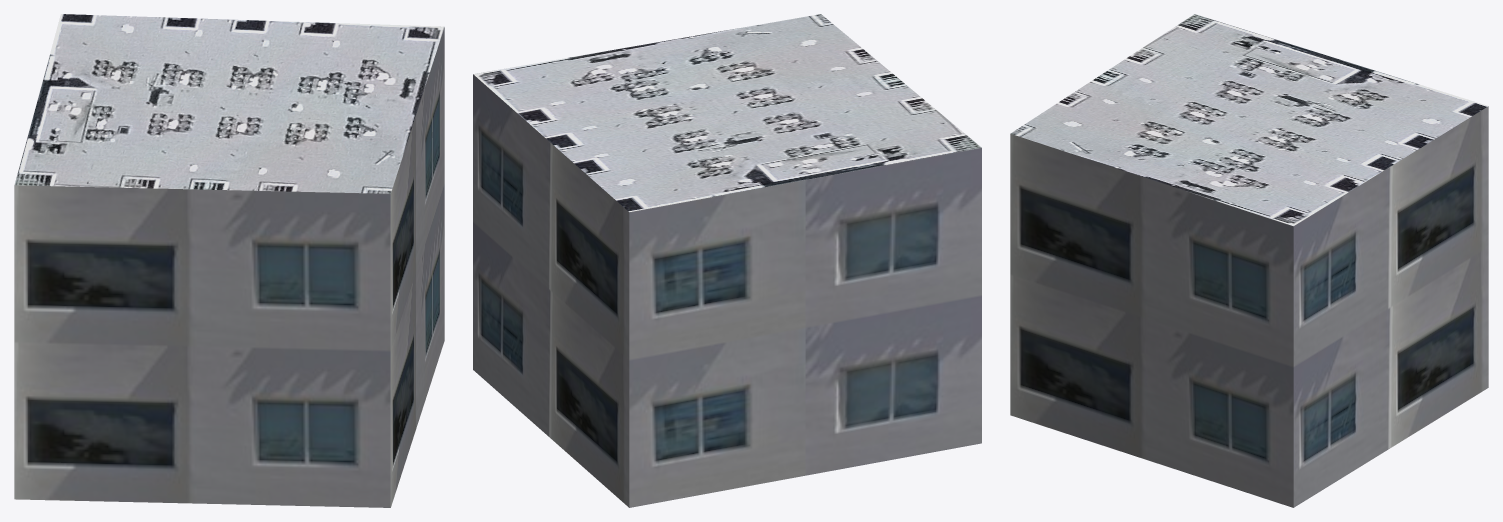
File: ResTex__3657.fbx
The picture shows the model from 3 angles, left to right: view 1: azimuth 30°, elevation 25°; view 2: azimuth 150°, elevation 25°; view 3: azimuth 270°, elevation 25°; orthographic projection. The views are drawn at different scales.
Visible parts, largest first — view 1: CityEngineMaterial_10_m, CityEngineMaterial_2_m; view 2: CityEngineMaterial_10_m, CityEngineMaterial_2_m; view 3: CityEngineMaterial_10_m, CityEngineMaterial_2_m.
Part boxes in pixels (<box>): CityEngineMaterial_10_m: <box>14,27,444,507</box>; CityEngineMaterial_2_m: <box>14,14,444,193</box>; CityEngineMaterial_10_m: <box>473,74,981,507</box>; CityEngineMaterial_2_m: <box>473,14,981,212</box>; CityEngineMaterial_10_m: <box>1010,106,1488,507</box>; CityEngineMaterial_2_m: <box>1010,14,1488,226</box>.
Size of the model in its own units: 9.7 by 6 by 9.24.
2 materials, 2 textured.
